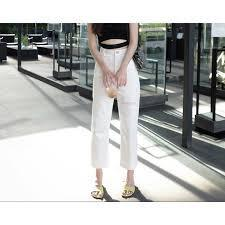pants: (90, 48, 142, 170)
